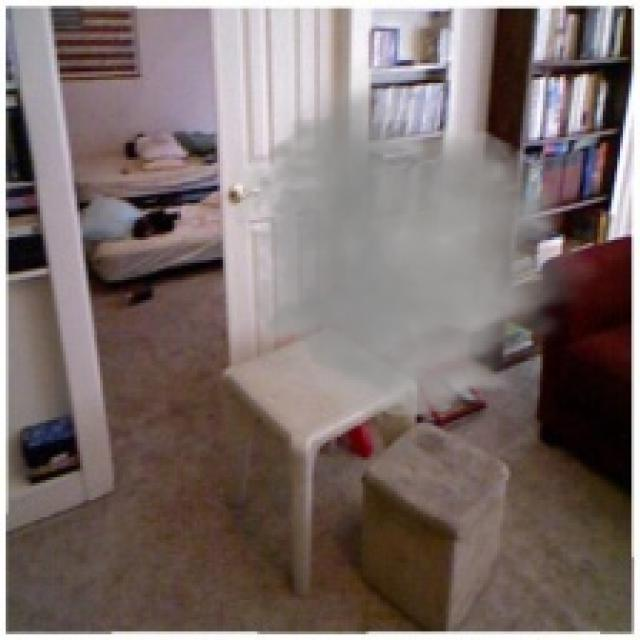smoke: (214, 57, 609, 426)
